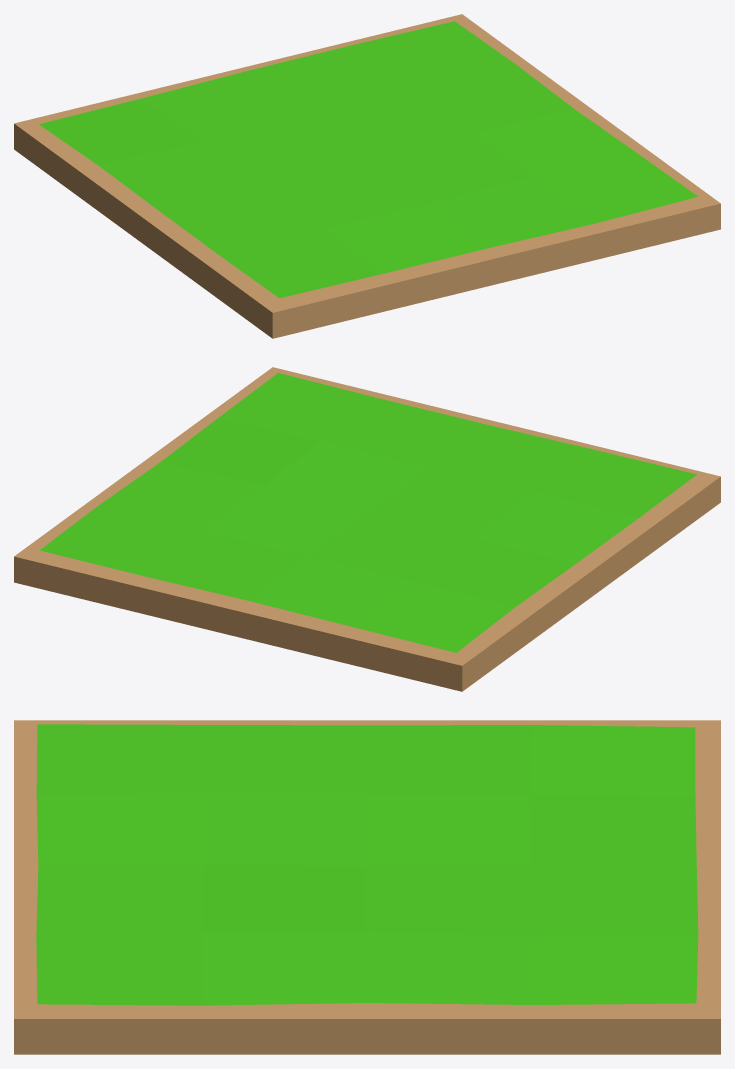
The model's file is grama.fbx.
The picture shows the model from 3 angles, top to bottom: view 1: azimuth 30°, elevation 25°; view 2: azimuth 150°, elevation 25°; view 3: azimuth 270°, elevation 25°; orthographic projection. The views are drawn at different scales.
Visible parts, largest first — view 1: Plano.001, Plano.002; view 2: Plano.001, Plano.002; view 3: Plano.001, Plano.002.
Boxes of the visible parts, <box> form: Plano.001: <box>39,21,697,298</box>; Plano.002: <box>14,14,720,338</box>; Plano.001: <box>39,373,696,652</box>; Plano.002: <box>14,367,720,691</box>; Plano.001: <box>36,724,698,1005</box>; Plano.002: <box>14,720,720,1054</box>.
Size of the model in its own units: 1574 by 105 by 1574.
